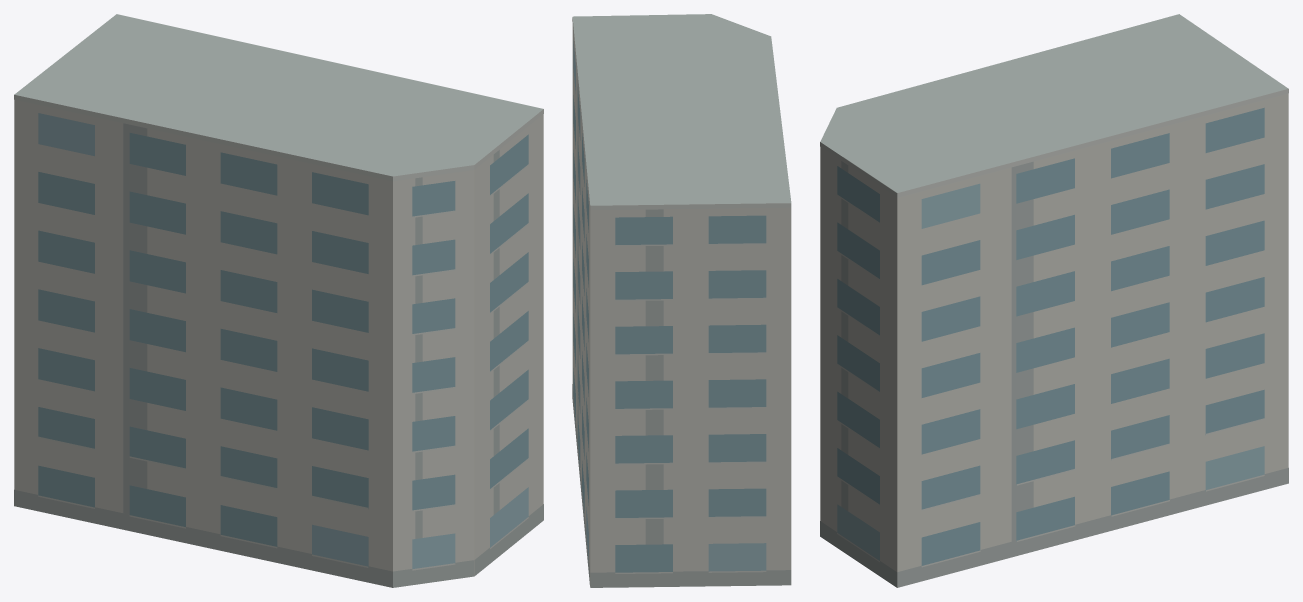
The model's file is residential-c7c8bb33-0cd0-4890-a1d1-8548e085558b.glb.
3 views of the same model, side by side, from view 1: azimuth 30°, elevation 25°; view 2: azimuth 150°, elevation 25°; view 3: azimuth 270°, elevation 25° (orthographic). The views are drawn at different scales.
Visible parts, largest first — view 1: residential-c7c8bb33-0cd0-4890-a1d1-8548e085558b.tmp; view 2: residential-c7c8bb33-0cd0-4890-a1d1-8548e085558b.tmp; view 3: residential-c7c8bb33-0cd0-4890-a1d1-8548e085558b.tmp.
Part boxes in pixels (x1=…): residential-c7c8bb33-0cd0-4890-a1d1-8548e085558b.tmp: x1=14, y1=14, x2=543, y2=587; residential-c7c8bb33-0cd0-4890-a1d1-8548e085558b.tmp: x1=572, y1=14, x2=791, y2=587; residential-c7c8bb33-0cd0-4890-a1d1-8548e085558b.tmp: x1=820, y1=14, x2=1288, y2=587.
Size of the model in its own units: 19.67 by 20.2 by 21.74.
